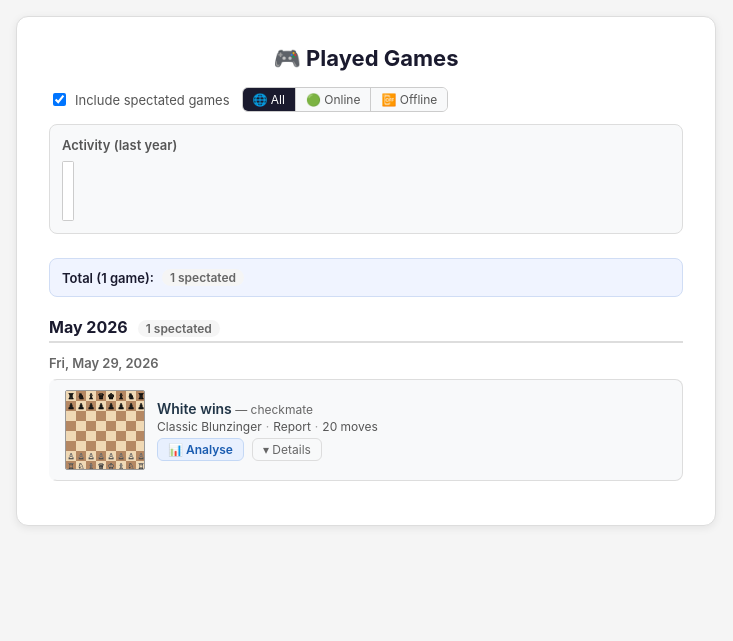
Scenario: PlayedGamesSection › expandable details › expands to show game settings when Details is clicked
Click the button "▾ Details": (287, 449) [252, 438, 322, 460]
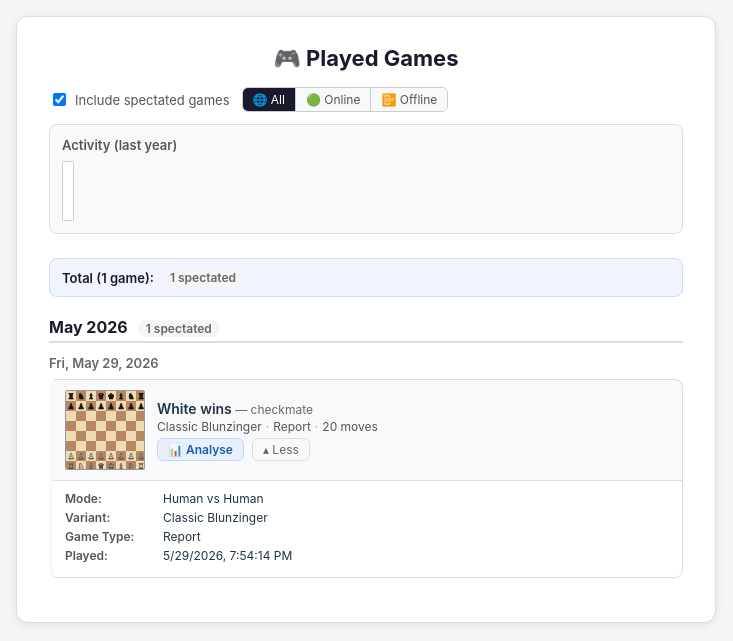
Now the text "Mode:" is shown, box [65, 491, 102, 506]
Now the text "Variant:" is shown, box [65, 510, 110, 525]
Now the text "Game Type:" is shown, box [65, 529, 134, 544]
